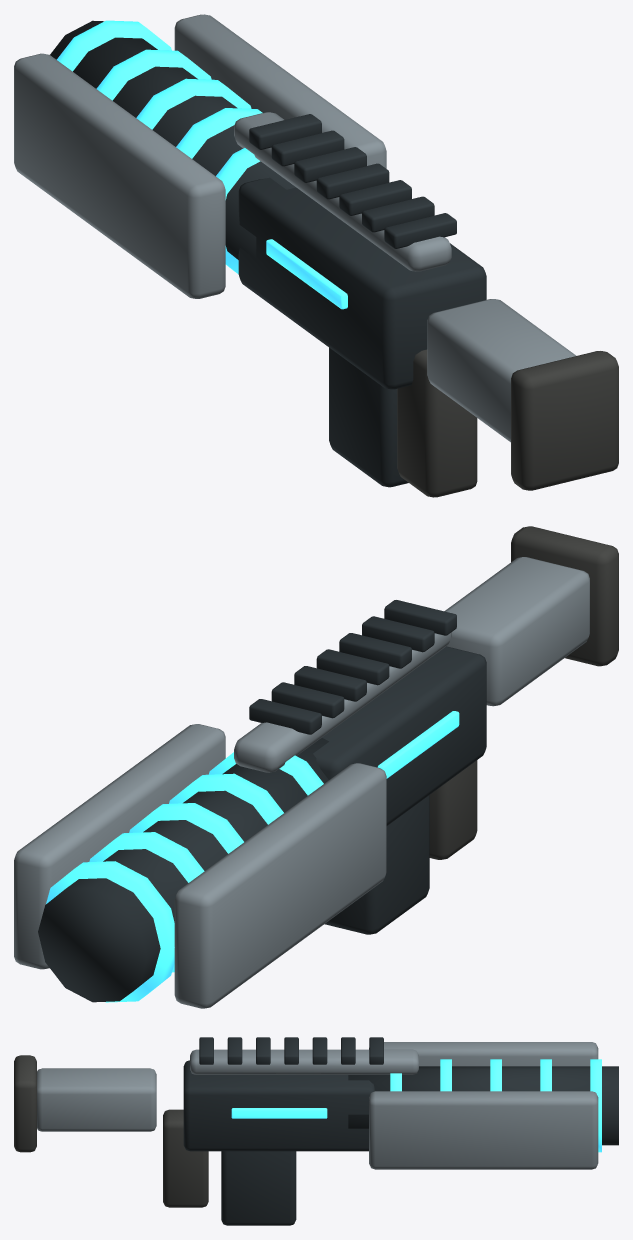
File: weapon-plasma.glb
3 views of the same model, one above another, from view 1: azimuth 30°, elevation 25°; view 2: azimuth 150°, elevation 25°; view 3: azimuth 270°, elevation 25° (orthographic). The views are drawn at different scales.
Visible parts, largest first — view 1: Accelerator; view 2: Accelerator; view 3: Accelerator.
Boxes of the visible parts, x1,y1,x2,y2 form: Accelerator: [14, 14, 618, 497]; Accelerator: [14, 526, 618, 1008]; Accelerator: [14, 1037, 618, 1225].
Bounding box in the file's own units: 0.345 × 0.4525 × 1.45.
